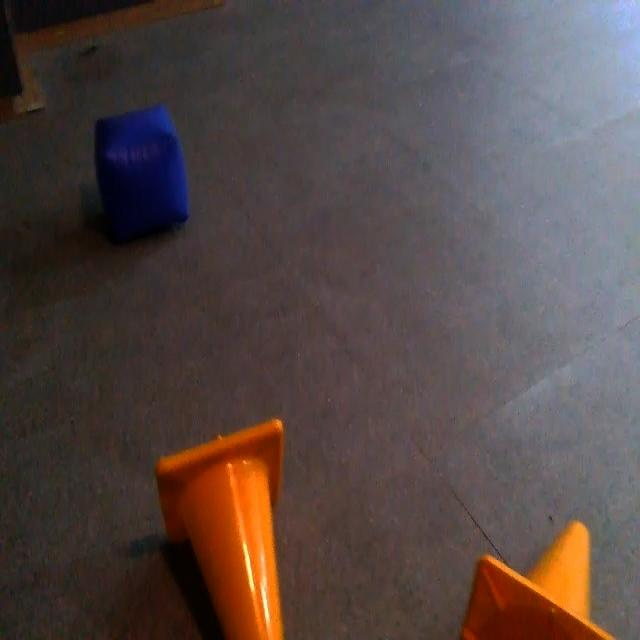cone: (149, 418, 295, 640), (455, 514, 613, 640)
cube: (97, 105, 194, 250)
